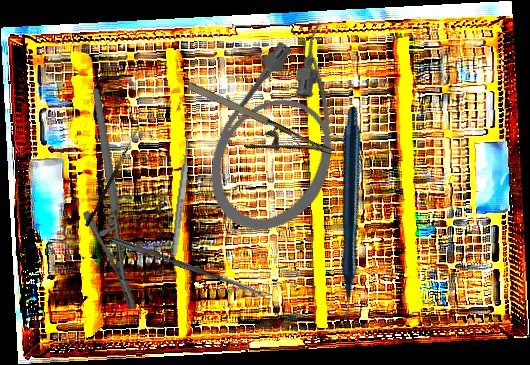Cannula: (187, 4, 388, 252)
Handpiece: (239, 104, 453, 328)
Hook Surgical: (84, 122, 141, 228)
Needle Holder: (56, 87, 174, 313), (175, 77, 335, 185)
Surgical Spoon: (108, 235, 273, 302), (170, 127, 194, 257)
